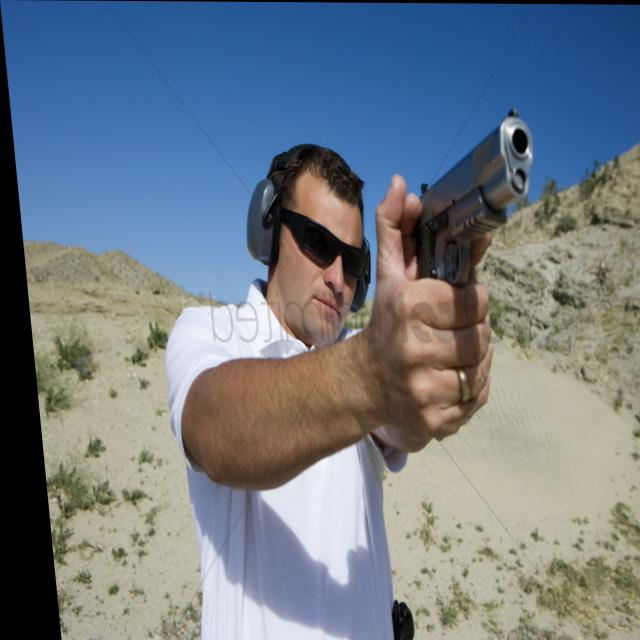handgun: (371, 109, 541, 300)
